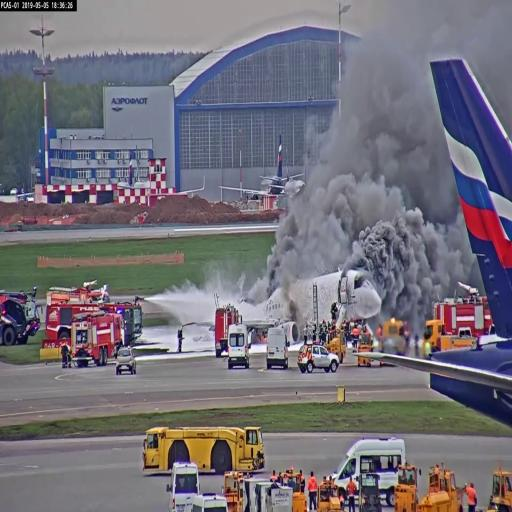smoke: (329, 74, 411, 262), (364, 212, 453, 290)
